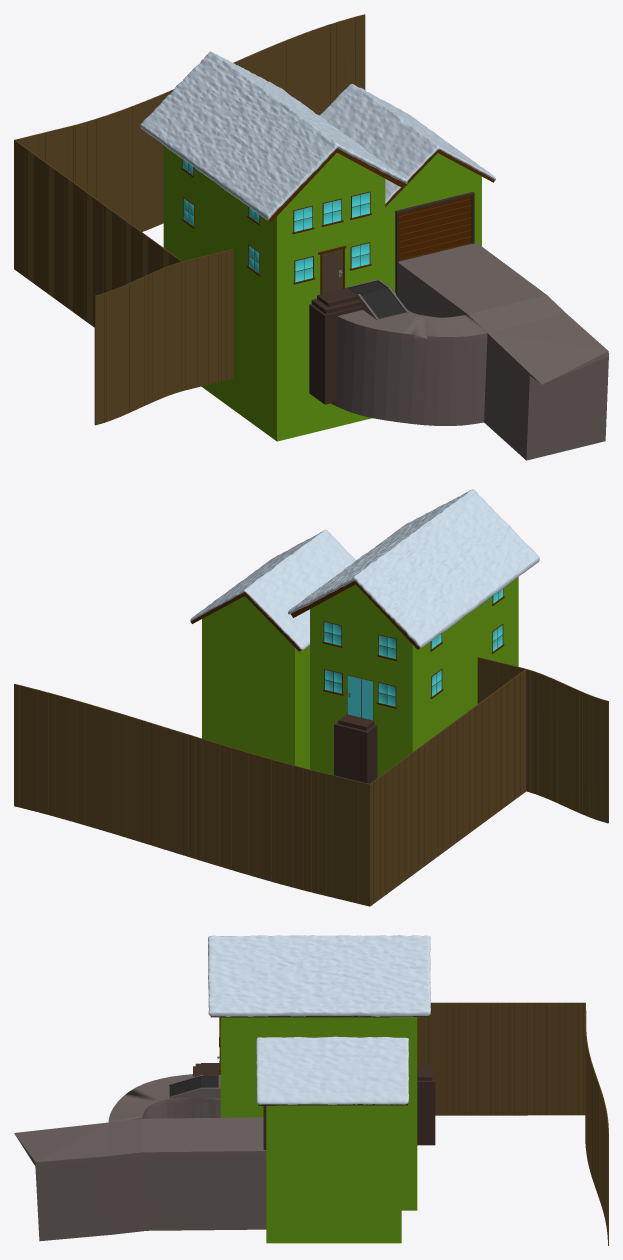
Rendered from burchshouse_compressed.glb.
3 views of the same model, one above another, from view 1: azimuth 30°, elevation 25°; view 2: azimuth 150°, elevation 25°; view 3: azimuth 270°, elevation 25° (orthographic). The views are drawn at different scales.
Parts seen in each view (by area): view 1: Cube.646, Cube.640, Cube.645, Cube.659, Cube.641, Cube.642, Cube.844, Cube.655; view 2: Cube.646, Cube.645, Cube.659, Cube.641, Cube.642; view 3: Cube.640, Cube.659, Cube.645, Cube.646, Cube.642, Cube.641, Cube.844.
Boxes of the visible parts, x1=… form: Cube.646: x1=14, y1=14, x2=365, y2=425; Cube.640: x1=331, y1=241, x2=608, y2=460; Cube.645: x1=163, y1=145, x2=481, y2=441; Cube.659: x1=140, y1=51, x2=495, y2=220; Cube.641: x1=181, y1=148, x2=494, y2=294; Cube.642: x1=309, y1=192, x2=474, y2=404; Cube.844: x1=348, y1=280, x2=406, y2=318; Cube.655: x1=322, y1=249, x2=342, y2=293; Cube.646: x1=14, y1=657, x2=608, y2=906; Cube.645: x1=202, y1=577, x2=518, y2=777; Cube.659: x1=190, y1=489, x2=539, y2=649; Cube.641: x1=190, y1=581, x2=504, y2=720; Cube.642: x1=334, y1=714, x2=377, y2=783; Cube.640: x1=14, y1=1074, x2=266, y2=1241; Cube.659: x1=208, y1=935, x2=430, y2=1104; Cube.645: x1=220, y1=1017, x2=417, y2=1243; Cube.646: x1=417, y1=1002, x2=608, y2=1245; Cube.642: x1=193, y1=1063, x2=435, y2=1149; Cube.641: x1=210, y1=1016, x2=427, y2=1105; Cube.844: x1=169, y1=1076, x2=218, y2=1096.
Bounding box in the file's own units: 4.85 × 2.99 × 6.39.
